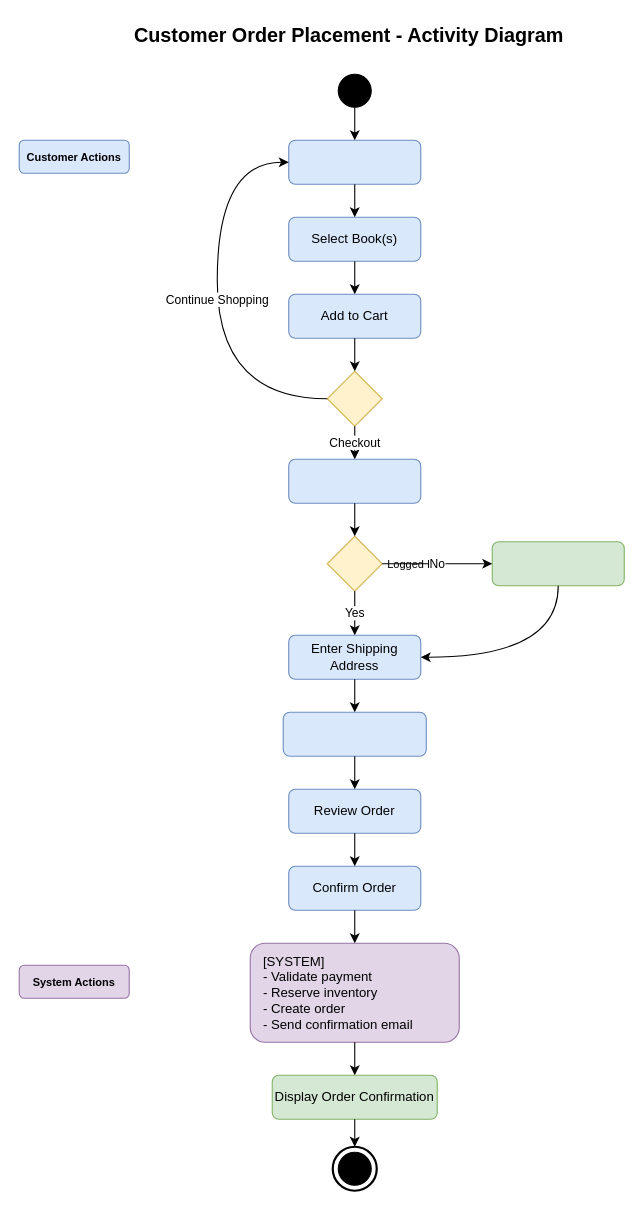
This 644x1210 diagram has some shape labels left out. The shapes that lost their labels are listed below. From the top down, each one's box as (x1, y1, x2, y2) in pixels, then its label:
(288, 139, 421, 184): Browse Catalog
(288, 458, 421, 503): Review Cart
(491, 541, 624, 586): Login / Register
(282, 711, 426, 756): Enter Payment Information
